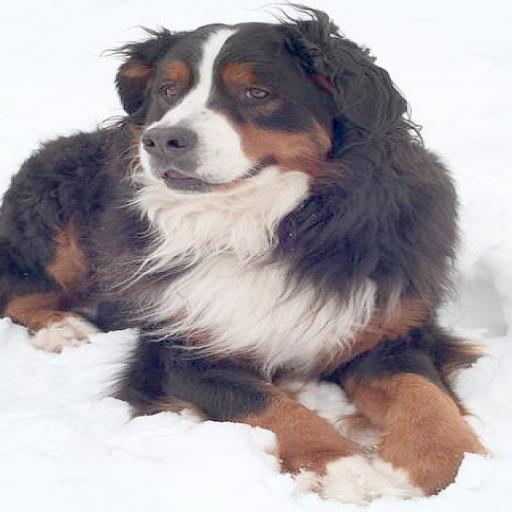dog_face: (90, 16, 395, 196)
